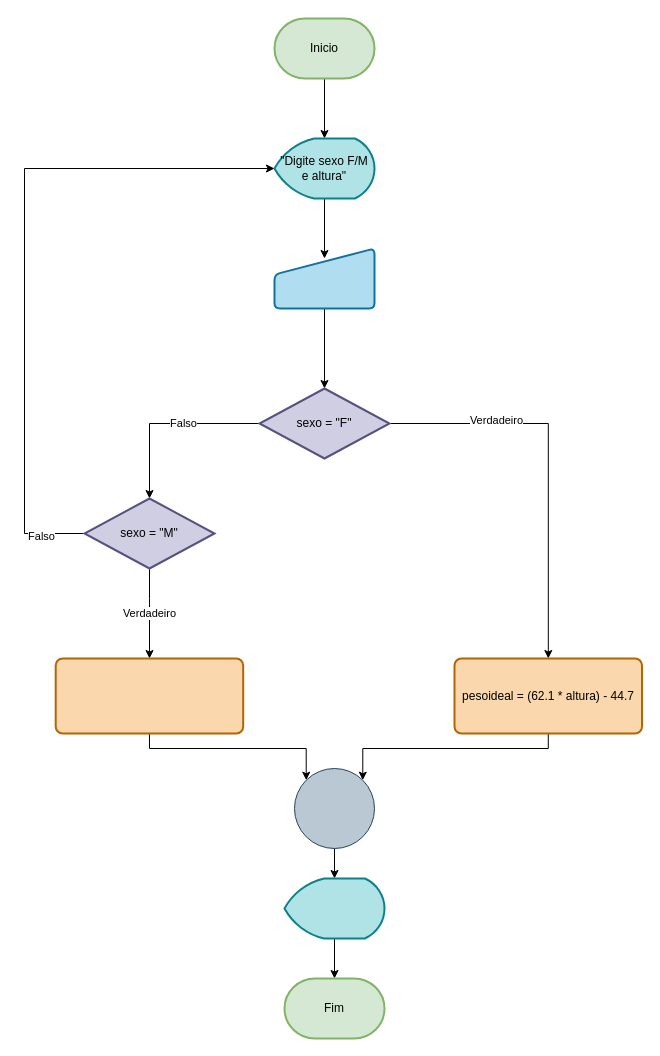
Image size: 660x1056. Some labels were removed from this diagram. Each missing label, with the centre of its shape:
"Peso ideal = " pesoideal: [334,908]
pesoideal = (72.7 * altura) - 58: [149,695]
sexo, altura: [324,278]
